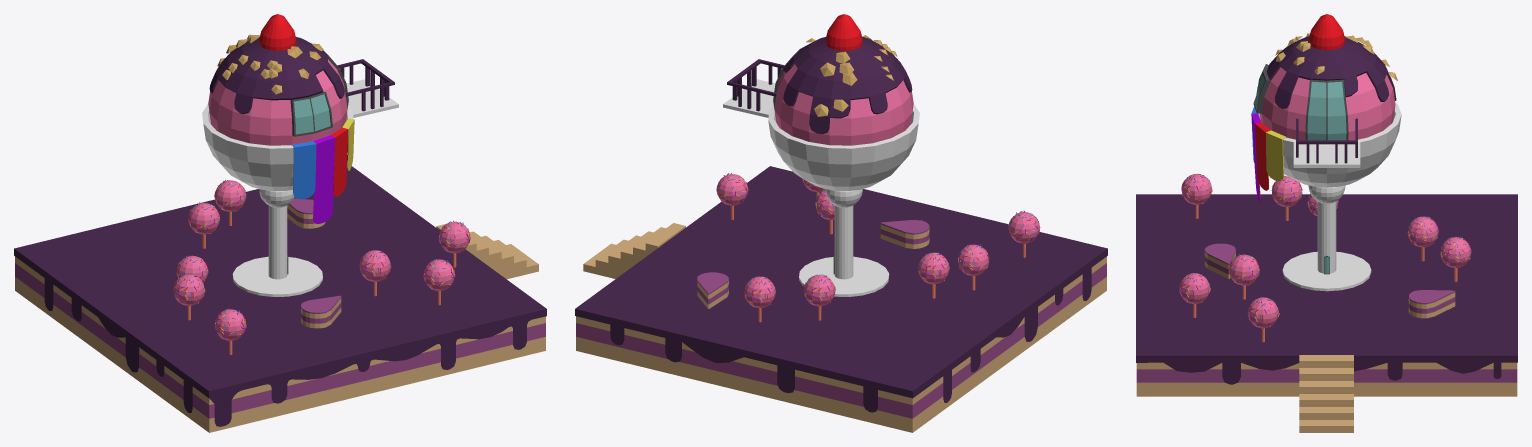
File: D2_ICE_CREAM_TOWER.fbx
The picture shows the model from 3 angles, left to right: view 1: azimuth 30°, elevation 25°; view 2: azimuth 150°, elevation 25°; view 3: azimuth 270°, elevation 25°; orthographic projection. The views are drawn at different scales.
Visible parts, largest first — view 1: Cube.001, Cube, Cylinder.006, Sphere, Sphere.001, Cylinder.007, Cube.003, Cube.002, Cylinder.004, Sphere.002, Cylinder.008, Cylinder.014 (+7 smaller); view 2: Cube.001, Cube, Cylinder.006, Sphere.001, Sphere, Cube.003, Cylinder.004, Cube.002, Sphere.002, Cylinder.005, Cylinder.011, Cylinder.015 (+4 smaller); view 3: Cube.001, Cube, Cylinder.006, Sphere, Sphere.001, Cube.003, Cylinder.007, Cylinder.005, Sphere.002, Cylinder.013, Cylinder.004, Cylinder.014 (+6 smaller).
Part boxes in pixels (bbox=[...]): Cube.001: bbox=[14, 166, 546, 426]; Cube: bbox=[15, 256, 545, 432]; Cylinder.006: bbox=[202, 79, 398, 296]; Sphere: bbox=[208, 50, 348, 145]; Sphere.001: bbox=[209, 36, 344, 113]; Cylinder.007: bbox=[292, 118, 354, 223]; Cube.003: bbox=[436, 224, 538, 279]; Cube.002: bbox=[337, 59, 394, 111]; Cylinder.004: bbox=[301, 295, 341, 328]; Sphere.002: bbox=[259, 14, 296, 50]; Cylinder.008: bbox=[423, 258, 455, 305]; Cylinder.014: bbox=[214, 180, 246, 225]; Cube.001: bbox=[575, 166, 1107, 412]; Cube: bbox=[576, 256, 1106, 432]; Cylinder.006: bbox=[723, 79, 919, 296]; Sphere.001: bbox=[783, 36, 912, 134]; Sphere: bbox=[773, 43, 913, 145]; Cube.003: bbox=[583, 223, 685, 278]; Cylinder.004: bbox=[880, 220, 929, 248]; Cube.002: bbox=[727, 59, 784, 111]; Sphere.002: bbox=[825, 14, 862, 50]; Cylinder.005: bbox=[697, 272, 728, 308]; Cylinder.011: bbox=[957, 244, 989, 290]; Cylinder.015: bbox=[716, 173, 748, 219]; Cube.001: bbox=[1136, 194, 1517, 384]; Cube: bbox=[1136, 362, 1517, 396]; Cylinder.006: bbox=[1258, 103, 1401, 291]; Sphere: bbox=[1253, 64, 1395, 140]; Sphere.001: bbox=[1266, 36, 1396, 108]; Cube.003: bbox=[1299, 355, 1353, 432]; Cylinder.007: bbox=[1251, 106, 1286, 202]; Cylinder.005: bbox=[1408, 290, 1455, 318]; Sphere.002: bbox=[1309, 14, 1345, 49]; Cylinder.013: bbox=[1407, 216, 1439, 261]; Cylinder.004: bbox=[1204, 243, 1235, 278]; Cylinder.014: bbox=[1440, 236, 1471, 281].
Size of the model in its own units: 6493 by 4615 by 5308.
